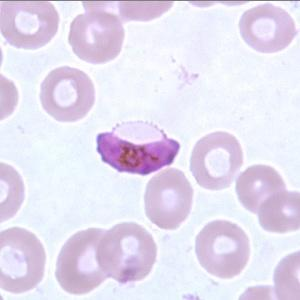Infected: (94, 118, 180, 175)
Uninfected: (97, 222, 160, 283), (56, 227, 112, 295), (142, 167, 196, 230), (39, 65, 97, 123), (196, 218, 251, 278), (190, 131, 244, 190), (0, 225, 45, 294), (0, 0, 60, 50), (69, 14, 127, 65), (238, 4, 297, 54), (234, 163, 282, 214), (260, 188, 300, 234)
